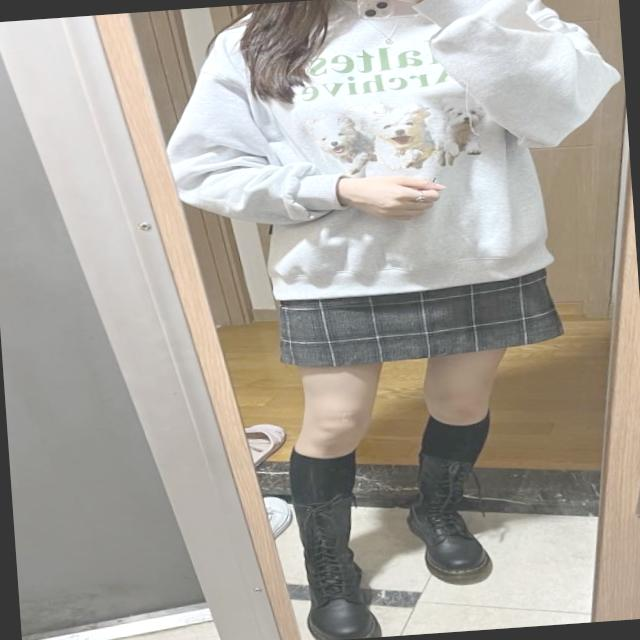mtm: (156, 0, 637, 309)
skirt: (268, 269, 564, 372)
